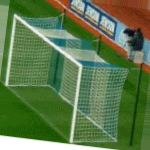goals: (5, 11, 128, 147)
